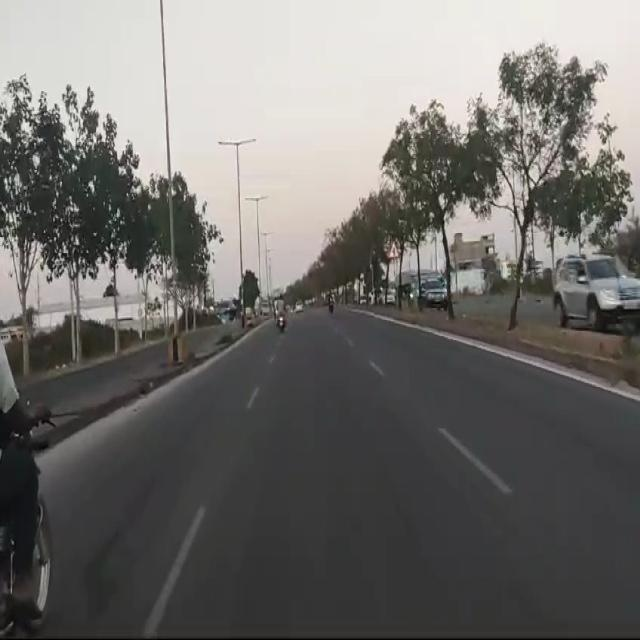bien_nguy_hiem: (387, 239, 400, 260)
